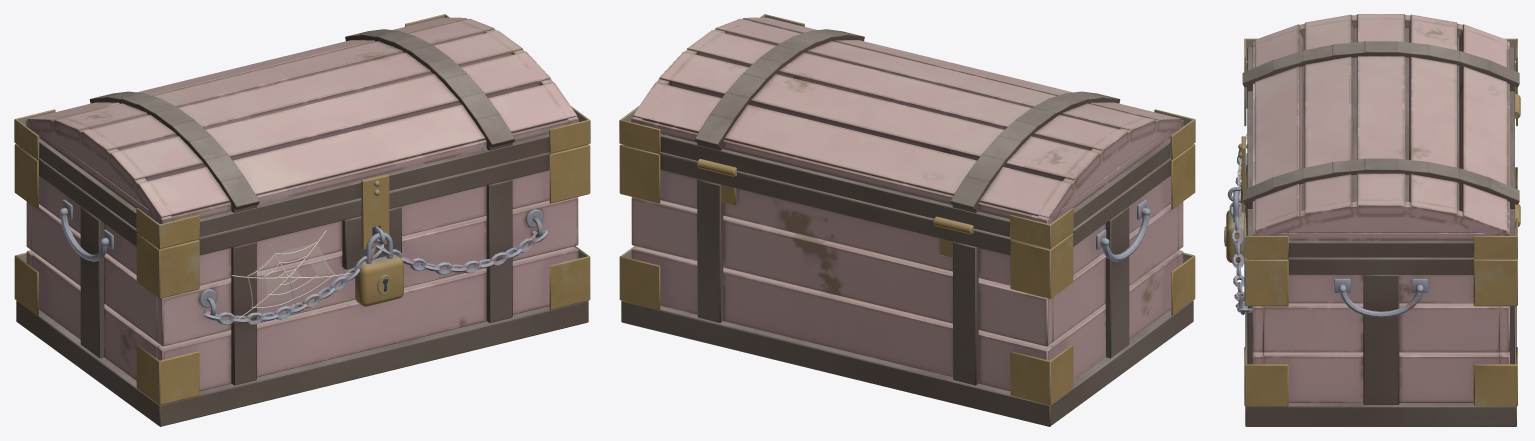
File: padlocked-chest.glb
3 renders of one model, left to right at view 1: azimuth 30°, elevation 25°; view 2: azimuth 150°, elevation 25°; view 3: azimuth 270°, elevation 25°, orthographic. The views are drawn at different scales.
Visible parts, largest first — view 1: padlocked-chest_body, padlocked-chest_lid, padlocked-chest_web; view 2: padlocked-chest_body, padlocked-chest_lid; view 3: padlocked-chest_lid, padlocked-chest_body.
Part boxes in pixels (x1=…): padlocked-chest_body: x1=14, y1=144, x2=590, y2=426; padlocked-chest_lid: x1=14, y1=14, x2=590, y2=249; padlocked-chest_web: x1=232, y1=230, x2=350, y2=318; padlocked-chest_body: x1=619, y1=144, x2=1195, y2=426; padlocked-chest_lid: x1=619, y1=14, x2=1195, y2=248; padlocked-chest_lid: x1=1238, y1=14, x2=1519, y2=258; padlocked-chest_body: x1=1224, y1=62, x2=1520, y2=426.
Size of the model in its own units: 0.939 by 0.4792 by 0.5758.
4 materials, 2 textured.
